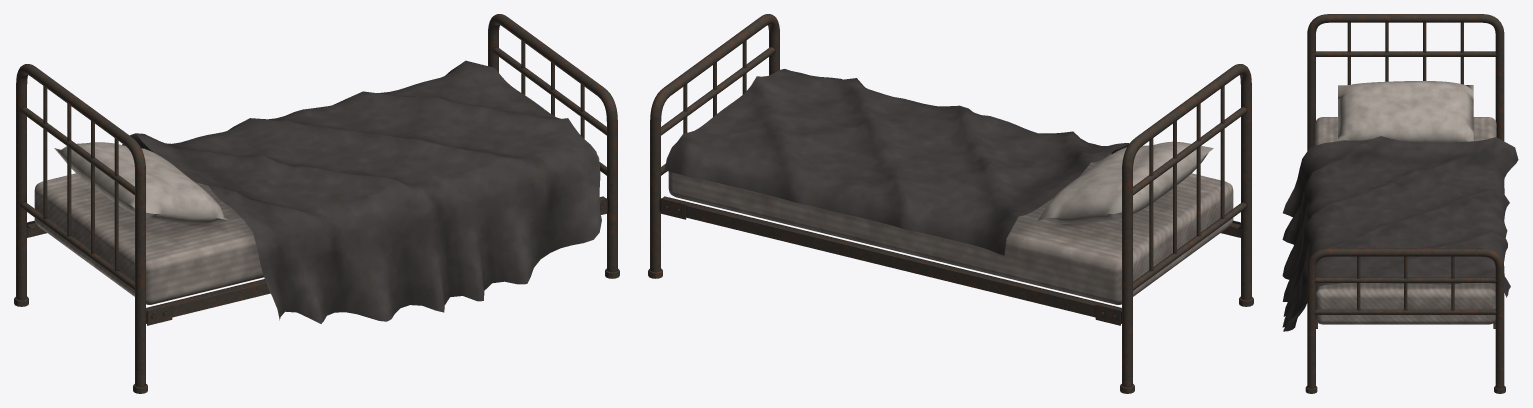
File: bed.glb
3 views of the same model, side by side, from view 1: azimuth 30°, elevation 25°; view 2: azimuth 150°, elevation 25°; view 3: azimuth 270°, elevation 25° (orthographic). The views are drawn at different scales.
Parts seen in each view (by area): view 1: Body; view 2: Body; view 3: Body.
Part boxes in pixels (<box>): Body: <box>14,14,619,393</box>; Body: <box>648,14,1253,393</box>; Body: <box>1282,14,1518,393</box>.
Size of the model in its own units: 2.02 by 0.98 by 1.08.
1 material, 1 textured.
